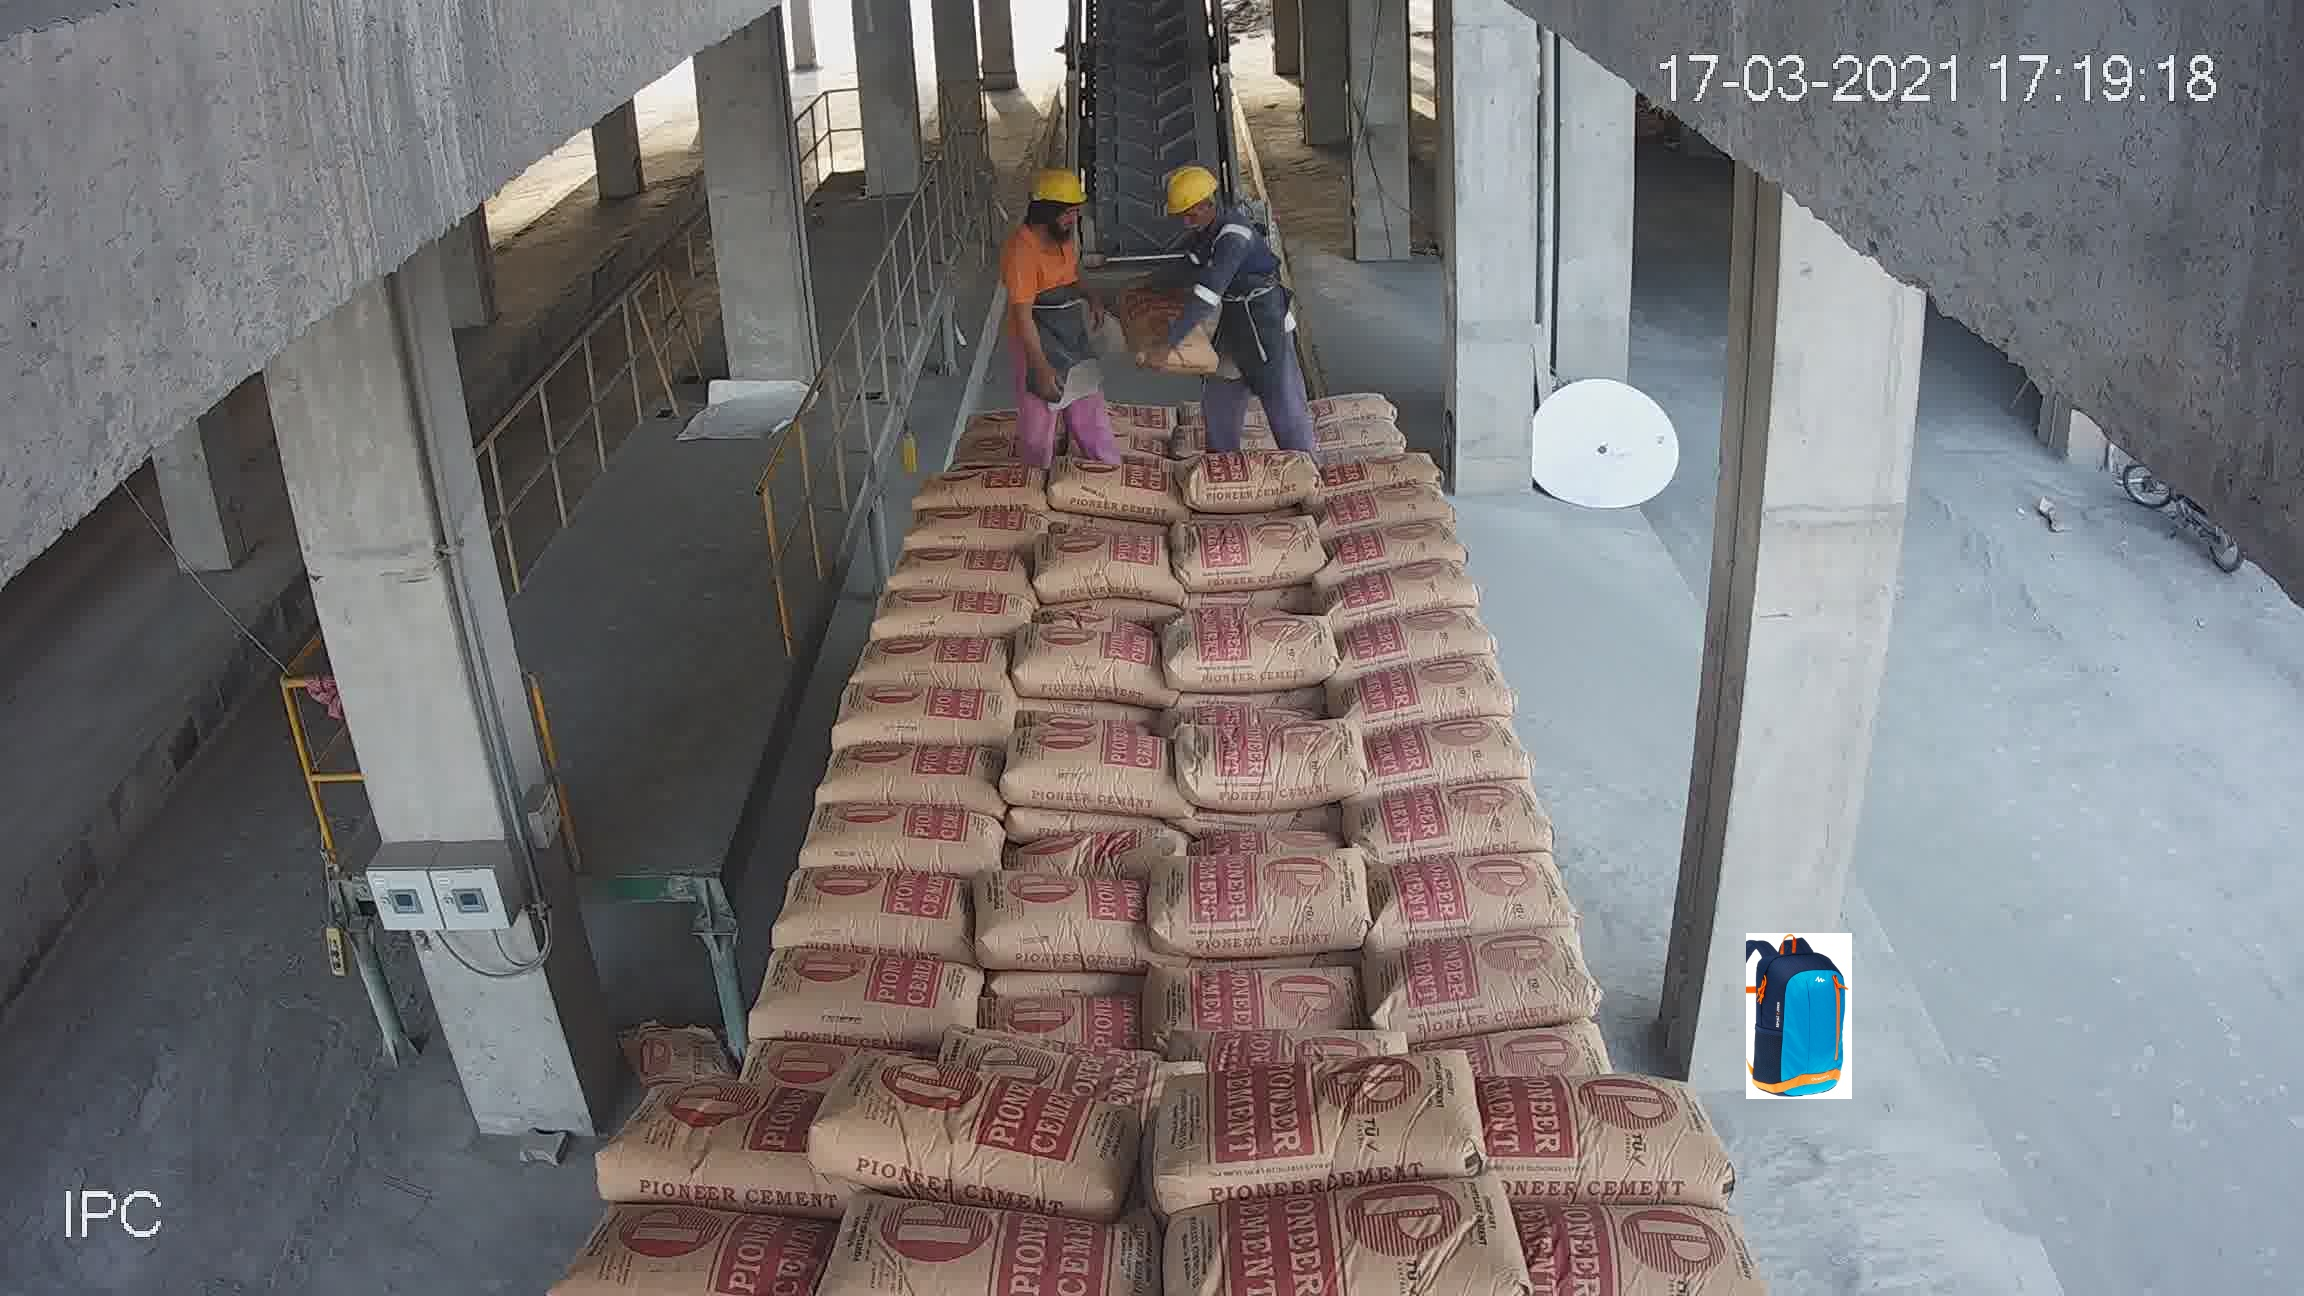bag: (1119, 279, 1209, 370)
bag_h: (1147, 1041, 1484, 1222), (805, 1060, 1154, 1214), (1150, 1177, 1527, 1293), (1483, 1071, 1728, 1207), (824, 1192, 1173, 1285), (589, 1055, 817, 1188), (1141, 836, 1377, 956), (1378, 923, 1612, 1040), (517, 1207, 817, 1296), (726, 945, 991, 1041), (756, 847, 970, 961), (1381, 836, 1576, 949), (1516, 1201, 1780, 1282), (1304, 638, 1518, 736), (957, 869, 1152, 970), (1362, 766, 1551, 867), (788, 783, 1005, 870), (1176, 707, 1362, 805), (915, 1036, 1195, 1101), (1355, 706, 1544, 794), (1182, 1010, 1415, 1081), (831, 677, 1032, 758), (1155, 600, 1340, 687), (1002, 720, 1177, 810), (1155, 953, 1370, 1025), (980, 956, 1161, 1038), (815, 742, 1032, 809), (1324, 590, 1497, 673), (869, 581, 1041, 660), (1163, 505, 1318, 590), (1320, 551, 1480, 631), (1030, 514, 1184, 597), (1021, 805, 1177, 880), (905, 487, 1059, 562), (1188, 441, 1340, 511), (1013, 620, 1154, 688), (902, 456, 1051, 519), (1331, 517, 1484, 578), (851, 636, 1013, 688), (1054, 453, 1192, 513), (1481, 1021, 1625, 1078), (886, 540, 1036, 593), (1320, 481, 1457, 540), (1320, 445, 1448, 495), (1304, 408, 1415, 454), (1101, 400, 1188, 441), (1294, 381, 1393, 418)
belt: (1059, 6, 1237, 321)
